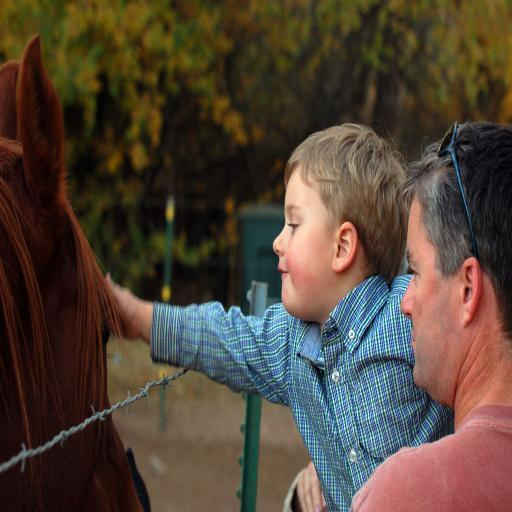horse: (0, 30, 144, 512)
